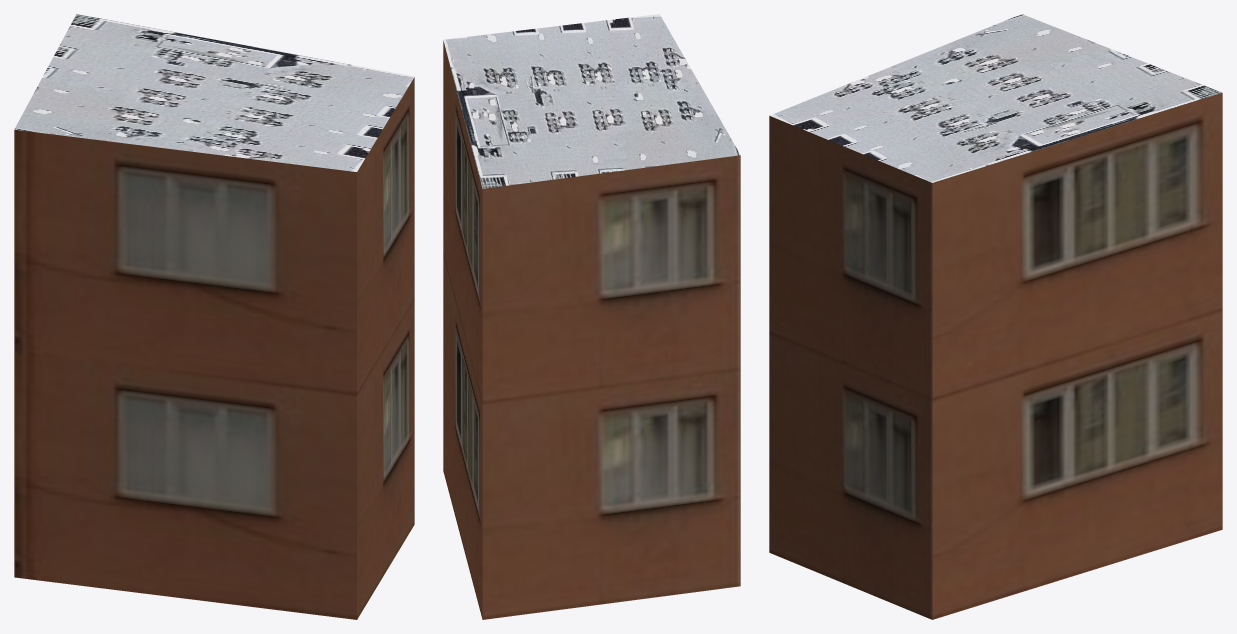
The model's file is ResTex__4947.fbx.
The picture shows the model from 3 angles, left to right: view 1: azimuth 30°, elevation 25°; view 2: azimuth 150°, elevation 25°; view 3: azimuth 270°, elevation 25°; orthographic projection. The views are drawn at different scales.
Parts seen in each view (by area): view 1: CityEngineMaterial_20_m, CityEngineMaterial_4_m; view 2: CityEngineMaterial_20_m, CityEngineMaterial_4_m; view 3: CityEngineMaterial_20_m, CityEngineMaterial_4_m.
Part boxes in pixels (<box>): CityEngineMaterial_20_m: <box>14,77,414,619</box>; CityEngineMaterial_4_m: <box>14,14,414,171</box>; CityEngineMaterial_20_m: <box>443,41,740,619</box>; CityEngineMaterial_4_m: <box>443,14,740,188</box>; CityEngineMaterial_20_m: <box>769,93,1222,619</box>; CityEngineMaterial_4_m: <box>770,14,1221,182</box>.
Size of the model in its own units: 4.98 by 6 by 5.64.
Materials: 2 (2 with a texture image).
